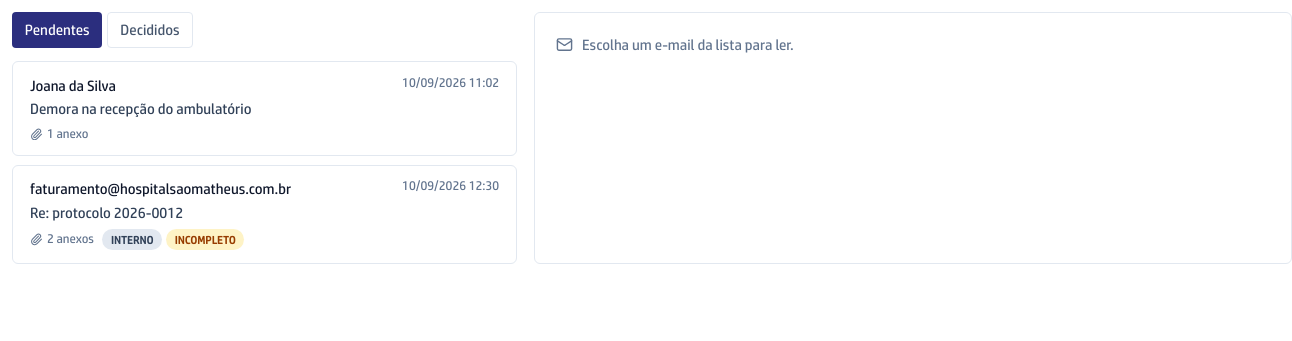
Test case: o painel do item › abre o e-mail com o corpo em texto e os anexos
Step 1. Click the button "Demora na recepção do ambulatório" → (73, 85), box [12,61,517,156]
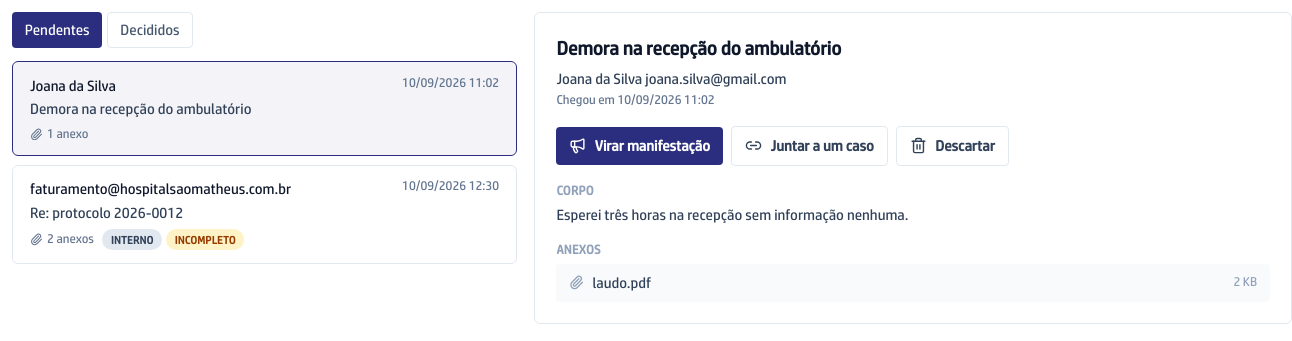
Now the text "Esperei três horas na recepção sem informação nenhuma." is shown, box [556,206,908,223]
Now the text "joana.silva@gmail.com" is shown, box [645,70,786,87]
Now the button "laudo.pdf 2 KB" is shown, box [556,264,1270,302]
